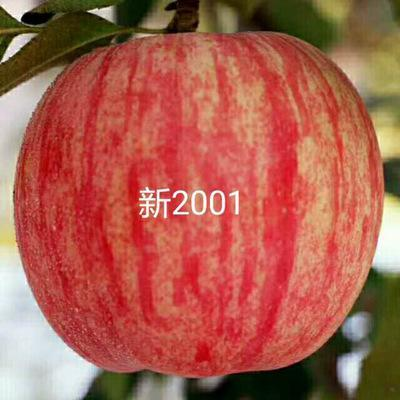apple: (13, 30, 385, 378)
